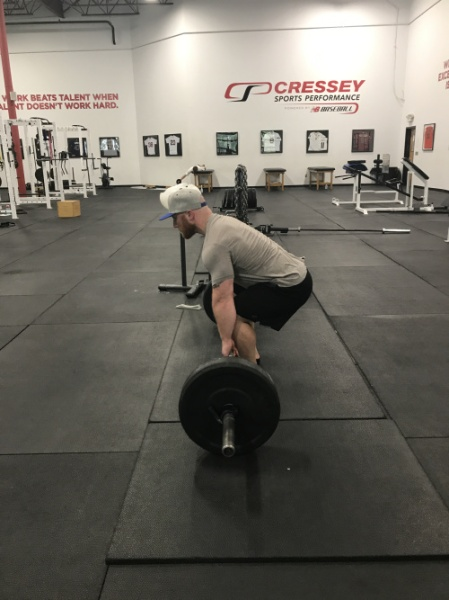barbell: (178, 355, 284, 467)
